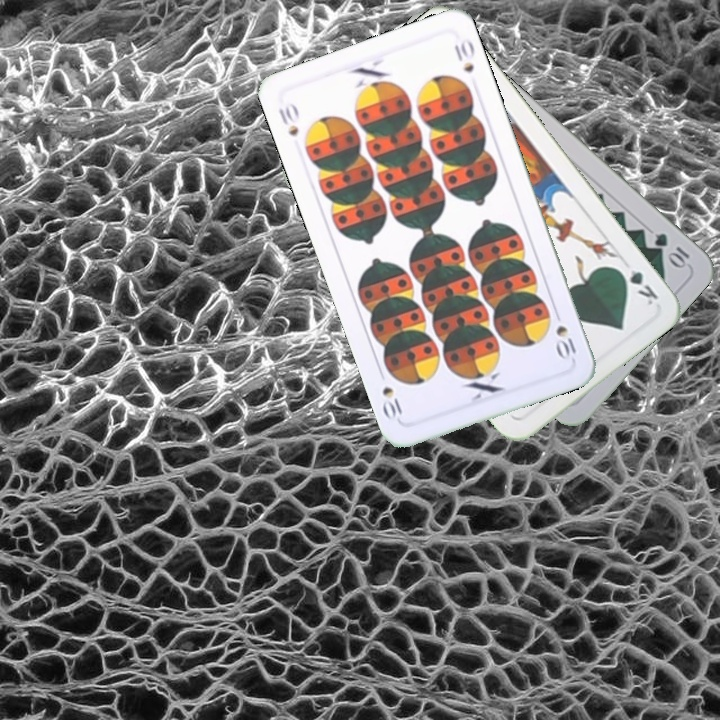G10: (650, 228, 693, 271)
GK: (613, 263, 661, 308)
S10: (552, 321, 579, 363), (274, 98, 301, 139)
